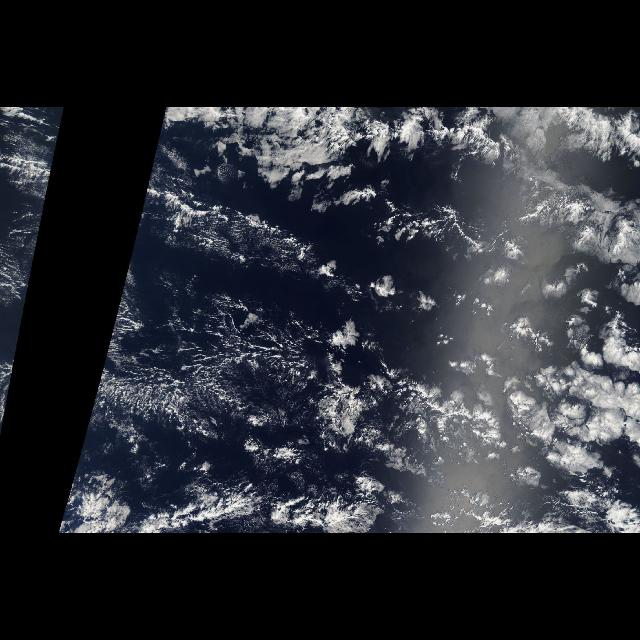Flower: (316, 218, 640, 514)
